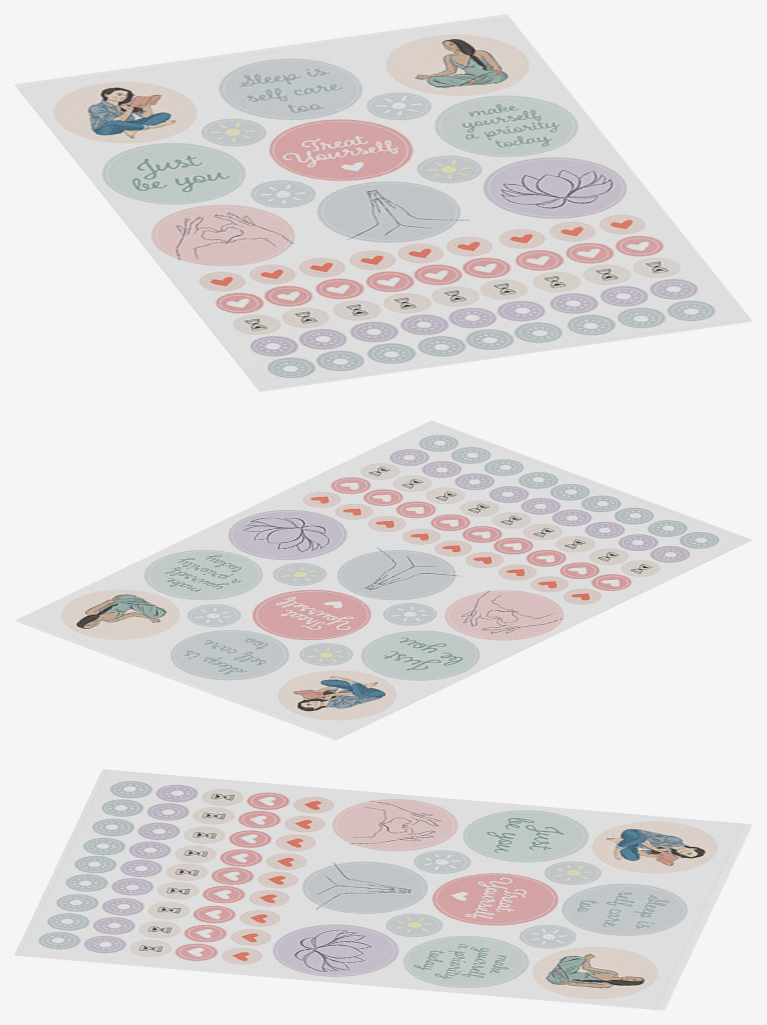
Rendered from klistermarken.gltf.
3 renders of one model, top to bottom at view 1: azimuth 30°, elevation 25°; view 2: azimuth 150°, elevation 25°; view 3: azimuth 270°, elevation 25°, orthographic. The views are drawn at different scales.
Parts seen in each view (by area): view 1: Plane; view 2: Plane; view 3: Plane.
Boxes of the visible parts, bbox=[...] form: Plane: bbox=[14, 14, 752, 391]; Plane: bbox=[14, 420, 752, 740]; Plane: bbox=[14, 769, 752, 1010].
Size of the model in its own units: 0.6036 by 0 by 0.7806.
Materials: 1 (1 with a texture image).
